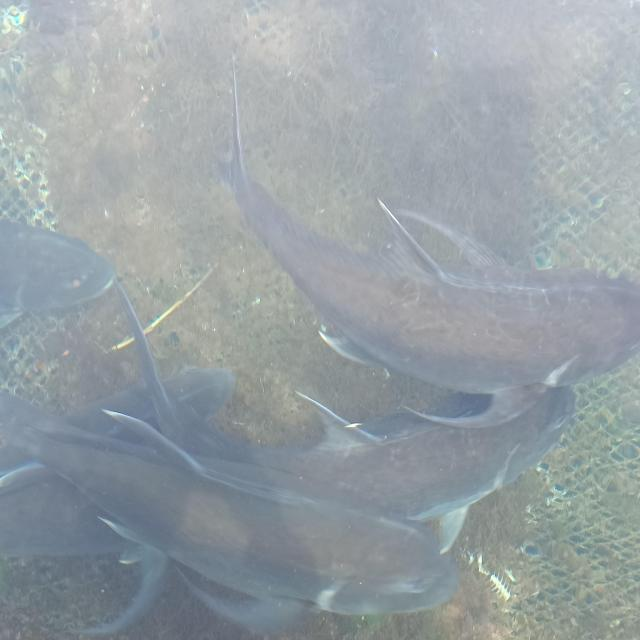ikan: (1, 257, 577, 629), (211, 57, 639, 424)
